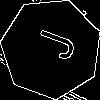J: (26, 23, 77, 62)
